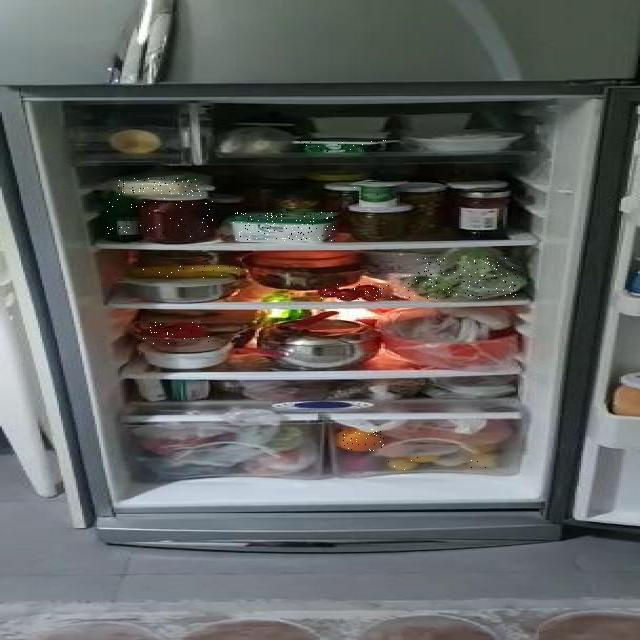banana: (132, 265, 250, 278)
cheese: (234, 212, 336, 241), (118, 178, 200, 195)
cream cheese: (295, 138, 395, 152)
lemon: (469, 453, 505, 468), (387, 456, 419, 470)
lettuce: (404, 258, 522, 299)
mineral water: (108, 194, 146, 243)
orange: (339, 429, 385, 451)
tomato: (143, 321, 209, 344), (320, 284, 392, 300)
tomato paste: (145, 195, 214, 238)
yoghurt: (354, 180, 399, 207)
